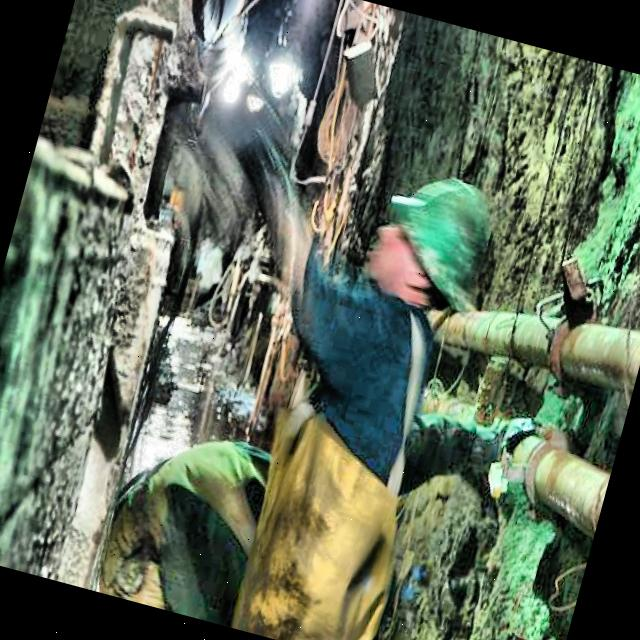helmet: (339, 146, 522, 352)
